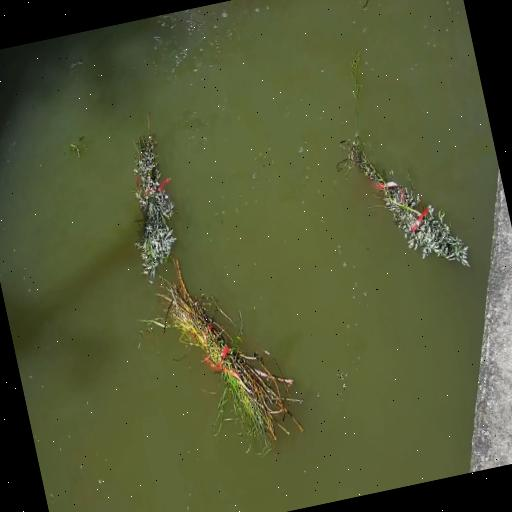twig: (150, 260, 302, 446), (336, 130, 468, 265), (134, 130, 175, 277), (351, 53, 360, 127)
